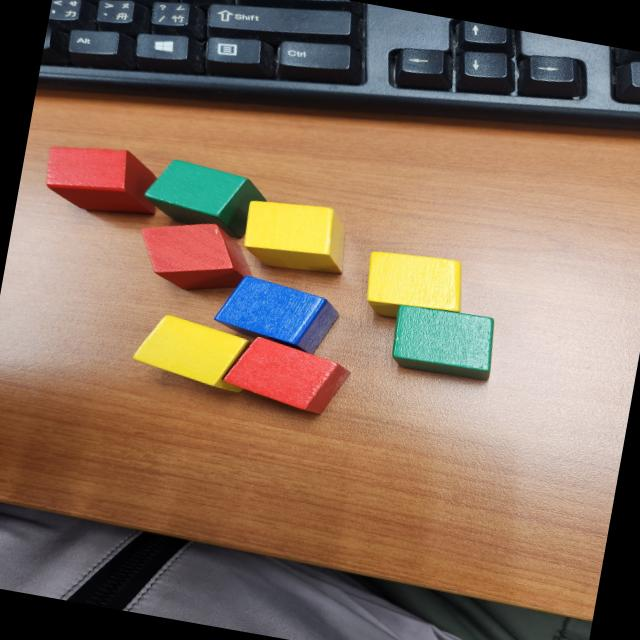blue: (207, 270, 345, 360)
green: (136, 151, 280, 243), (386, 300, 502, 384)
red: (128, 210, 262, 302), (218, 331, 355, 420), (37, 135, 166, 224)
yellow: (127, 310, 257, 396), (237, 193, 353, 278), (358, 245, 470, 329)
